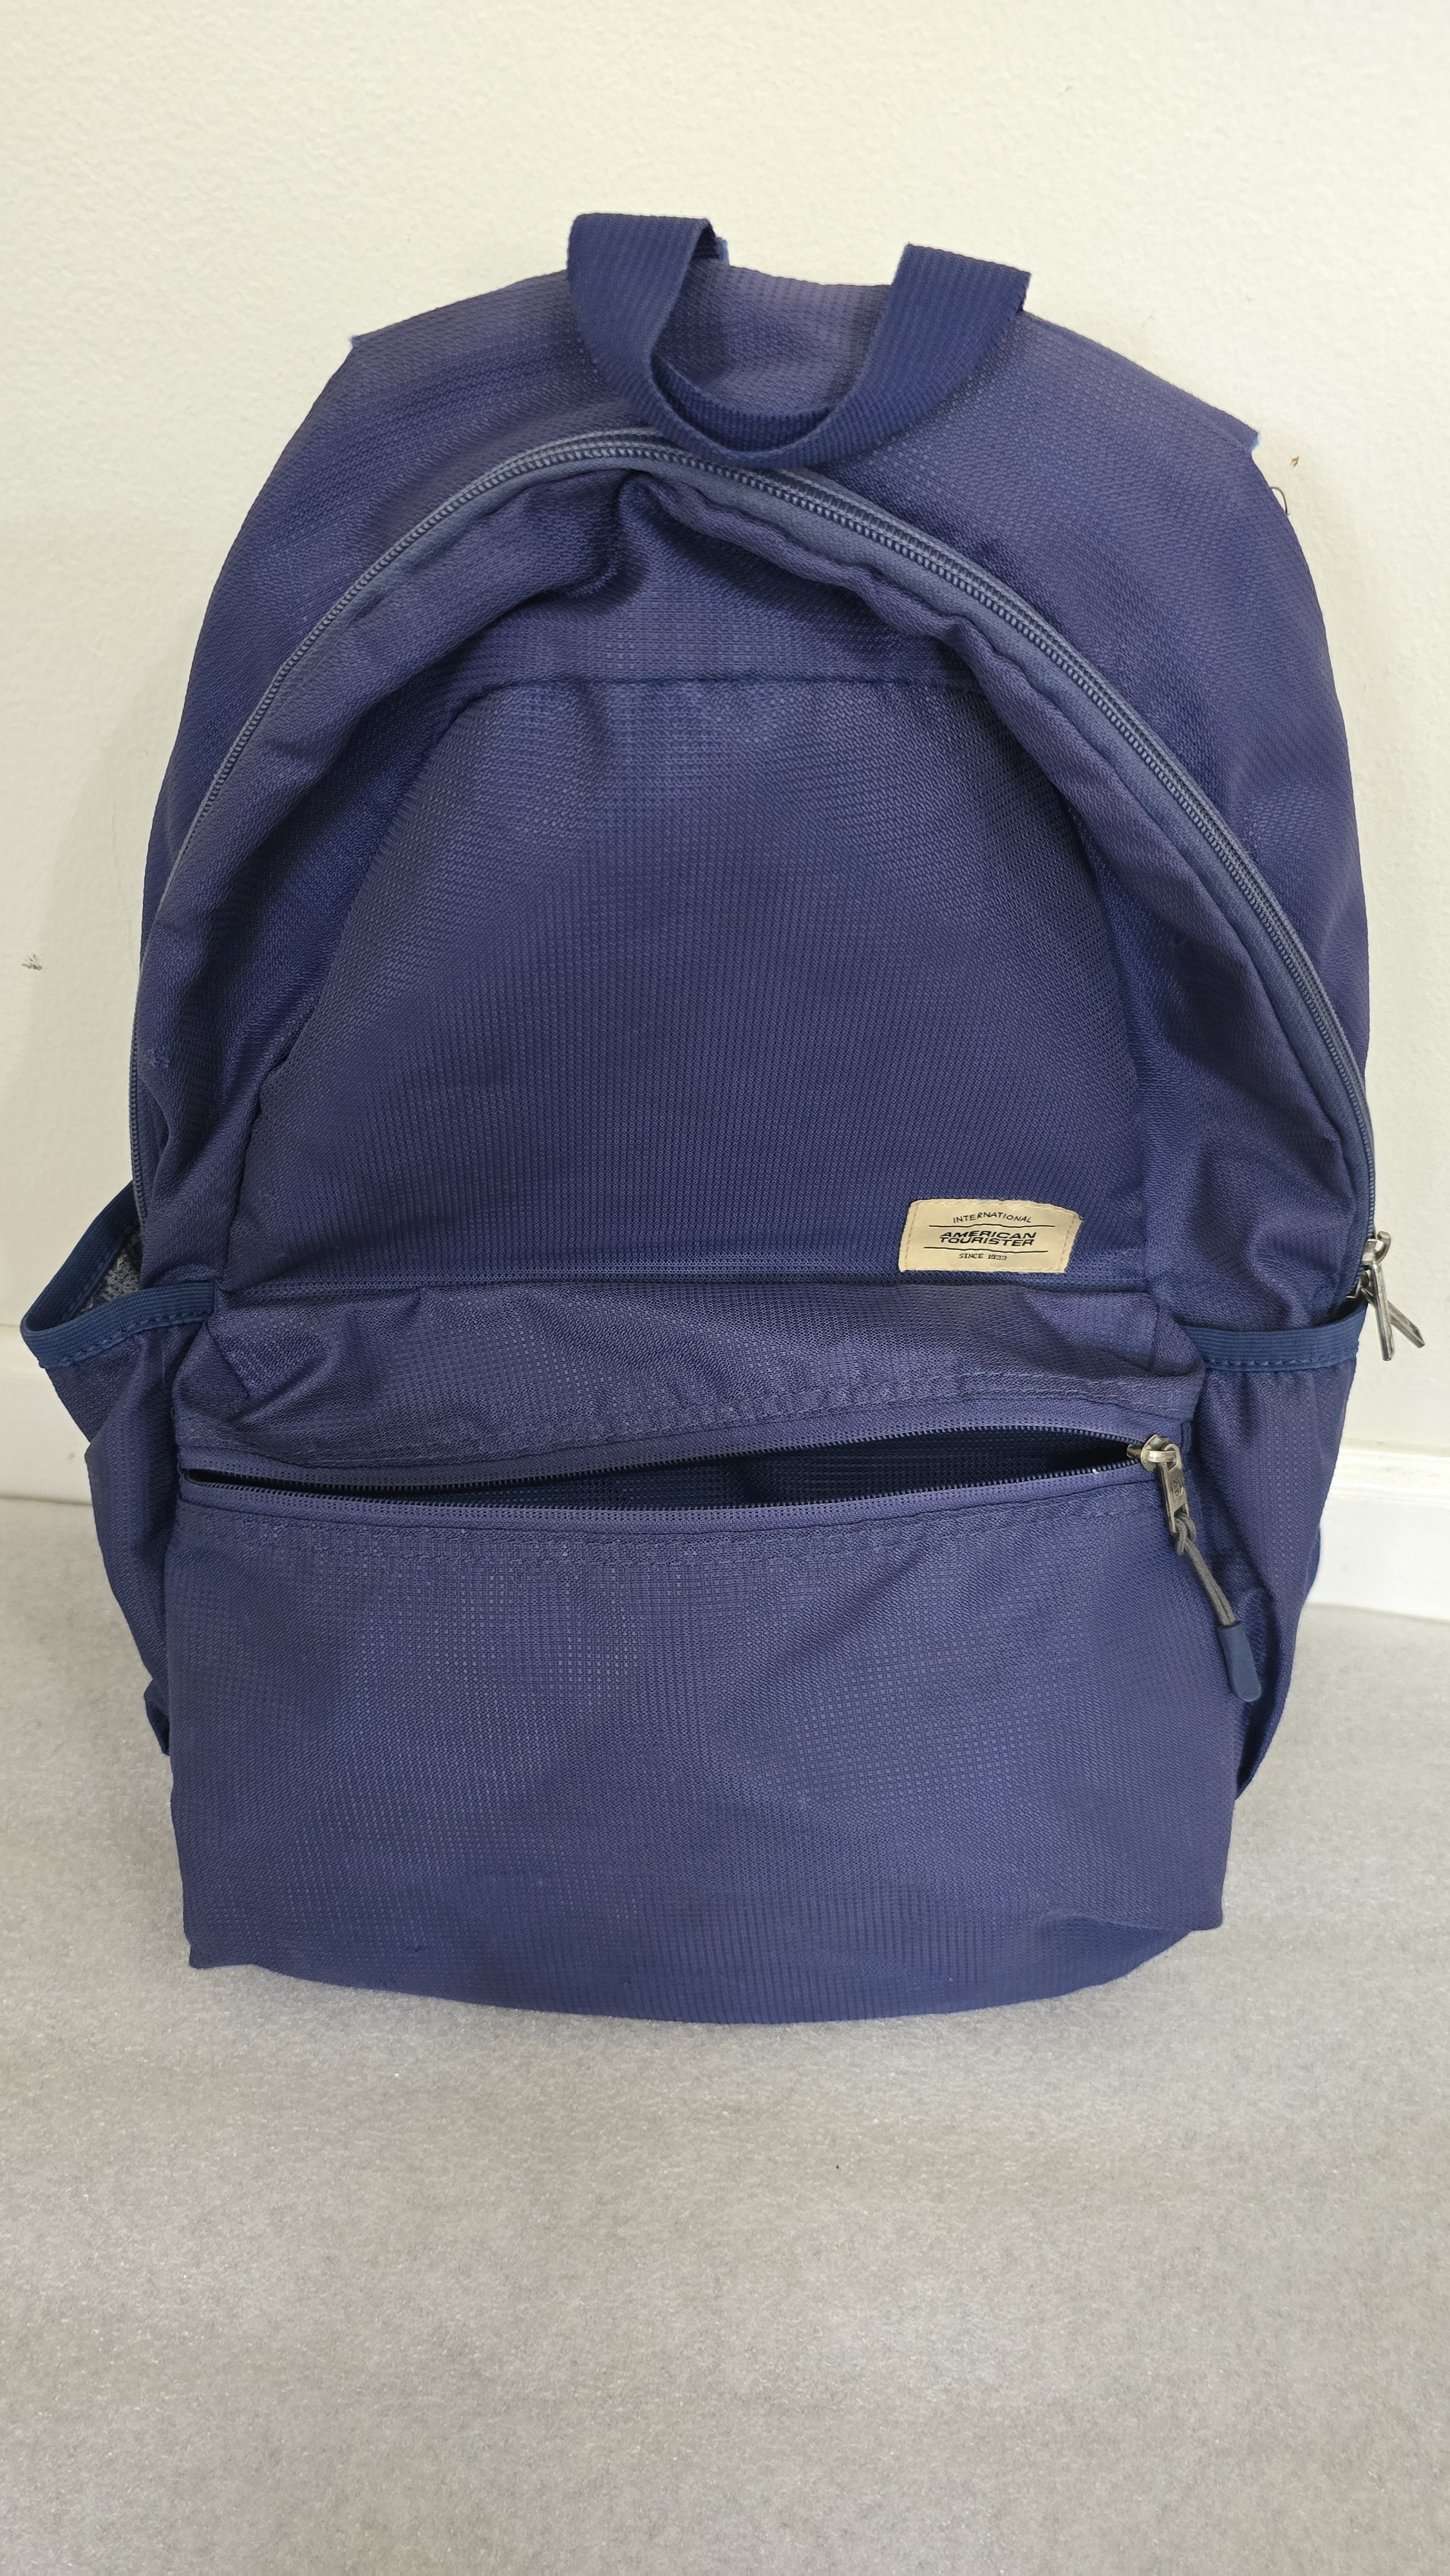bag: (97, 168, 1450, 2112)
